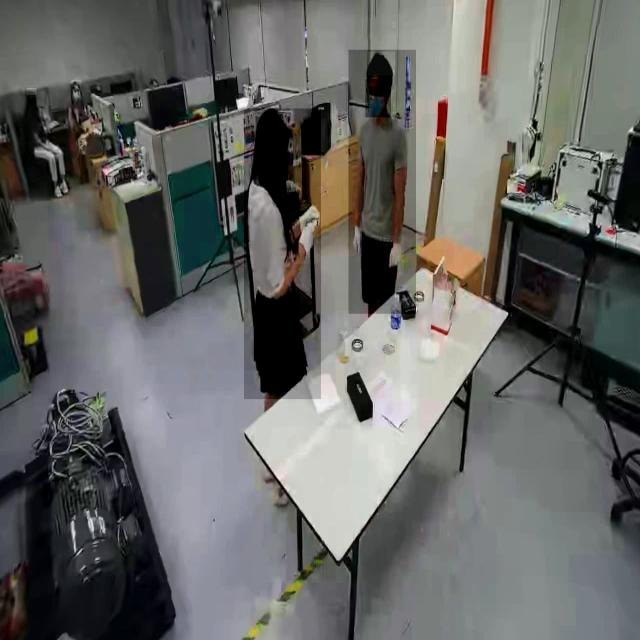face_mask: (365, 79, 391, 117)
hand_glove: (292, 204, 318, 264), (383, 236, 404, 276), (350, 214, 364, 262)
head_nohelmet: (255, 106, 291, 138), (367, 52, 395, 76), (71, 80, 81, 88), (26, 88, 36, 96)
person: (243, 108, 321, 400), (348, 49, 416, 314), (23, 85, 71, 203)
